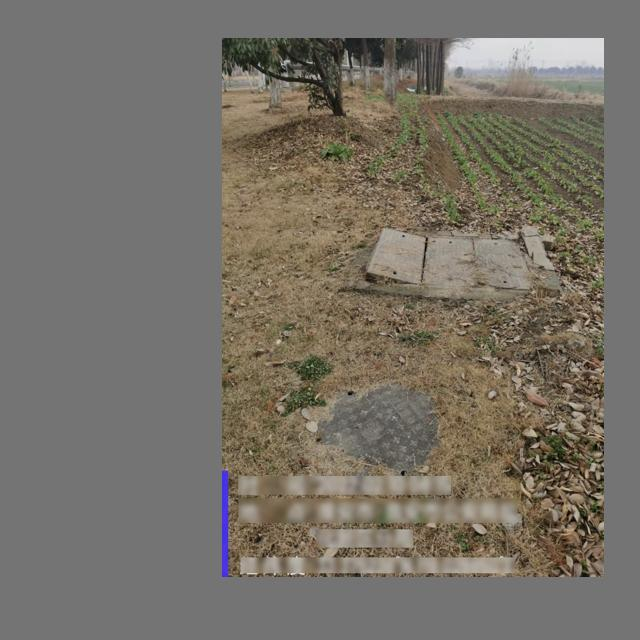uncovered: (352, 216, 504, 313)
